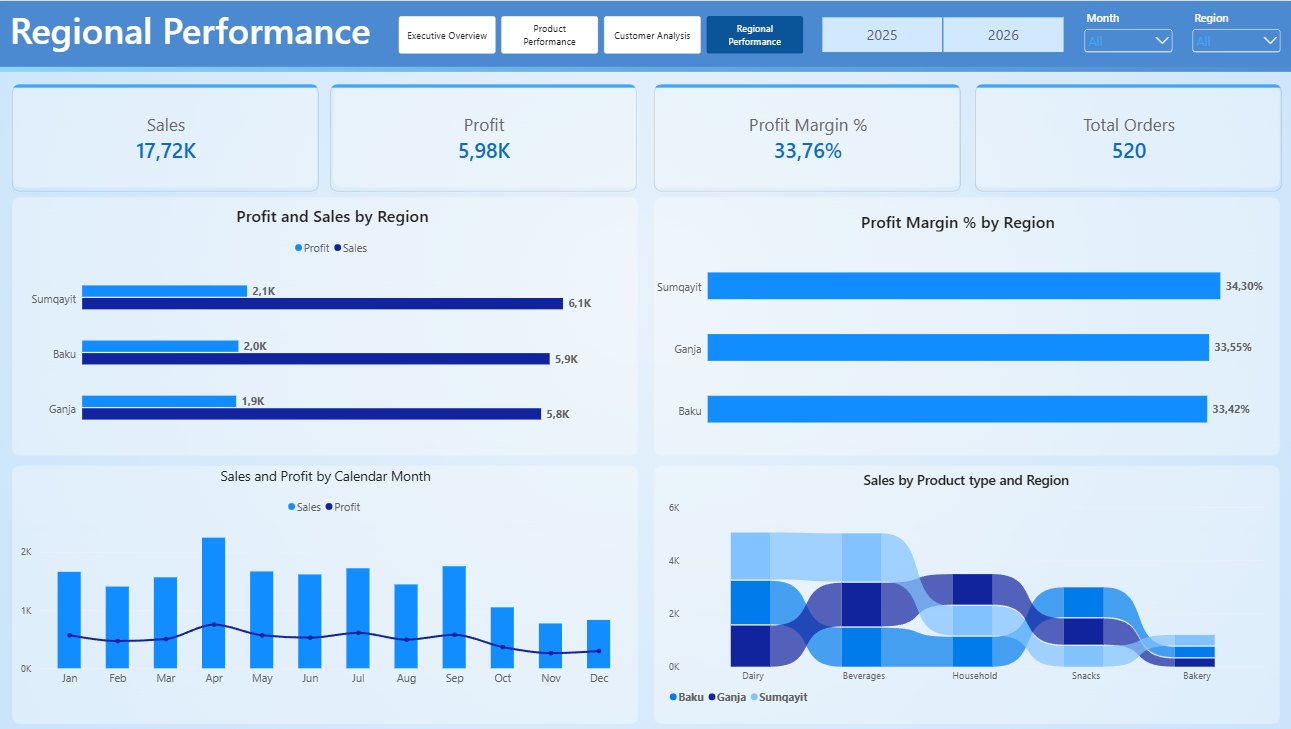

The dashboard page shown, as its layout file describes it:
{"tool":"powerbi","page":{"name":"Regional Performance","canvas":[1920,1080],"ordinal":3},"visuals":[{"type":"textbox","box":[17.1,7.3,580.7,83],"z":0},{"type":"slicer","fields":{"Values":["DimDate.Year"]},"box":[1200,22.5,397.5,55],"z":1},{"type":"slicer","fields":{"Values":["DimDate.MonthName"]},"box":[1605,12.5,140,75],"z":2},{"type":"slicer","fields":{"Values":["DimRegion.Region"]},"box":[1765,12.5,140,72.5],"z":3},{"type":"cardVisual","fields":{"Data":["_Measures.Sales"]},"box":[15,117.5,465,170],"z":4},{"type":"cardVisual","fields":{"Data":["_Measures.Profit"]},"box":[487.5,117.5,465,170],"z":5},{"type":"cardVisual","fields":{"Data":["_Measures.Profit Margin %"]},"box":[967.5,117.5,465,170],"z":6},{"type":"cardVisual","fields":{"Data":["_Measures.Total Orders"]},"box":[1442.5,117.5,465,170],"z":7},{"type":"clusteredBarChart","fields":{"Category":["DimRegion.Region"],"Y":["_Measures.Profit Margin %"]},"box":[952.5,295,937.5,387.5],"z":8},{"type":"clusteredBarChart","fields":{"Category":["DimRegion.Region"],"Y":["_Measures.Profit","_Measures.Sales"]},"box":[27.5,287.5,937.5,387.5],"z":9},{"type":"lineClusteredColumnComboChart","title":"Sales and Profit by Calendar Month","fields":{"Category":["DimDate.MonthName"],"Y":["_Measures.Sales"],"Y2":["_Measures.Profit"]},"box":[17.5,675,935,360],"z":10},{"type":"ribbonChart","title":"Sales by Product type and Region","fields":{"Category":["ProductTypes.ProductType"],"Series":["DimRegion.Region"],"Y":["_Measures.Sales"]},"box":[977.5,682.5,927.5,397.5],"z":11},{"type":"pageNavigator","box":[592.9,22,602.6,56.1],"z":12}]}

Visuals, with their boxes in screenshot pixels (x1, y1, x2, y2), scaled from the page's 1920x1080 canvas onto the 1291x729 screenshot:
textbox: 11 5 402 61
slicer - DimDate.Year: 807 15 1074 52
slicer - DimDate.MonthName: 1079 8 1173 59
slicer - DimRegion.Region: 1187 8 1281 57
cardVisual - _Measures.Sales: 10 79 323 194
cardVisual - _Measures.Profit: 328 79 640 194
cardVisual - _Measures.Profit Margin %: 651 79 963 194
cardVisual - _Measures.Total Orders: 970 79 1283 194
clusteredBarChart - DimRegion.Region x _Measures.Profit Margin %: 640 199 1271 461
clusteredBarChart - DimRegion.Region x _Measures.Profit: 18 194 649 456
"Sales and Profit by Calendar Month" lineClusteredColumnComboChart: 12 456 640 699
"Sales by Product type and Region" ribbonChart: 657 461 1281 728
pageNavigator: 399 15 804 53
